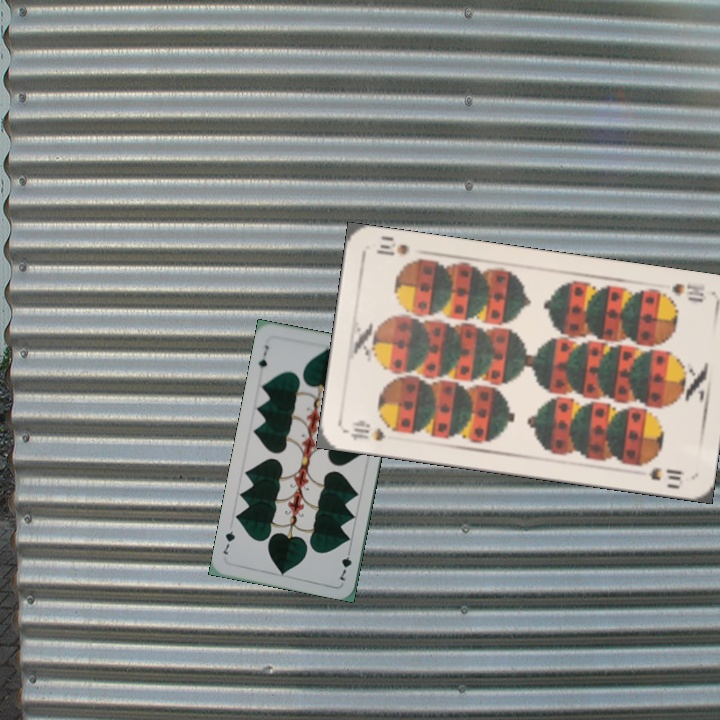G7: (336, 544, 354, 584), (254, 341, 271, 371)
S10: (343, 417, 389, 444), (668, 279, 709, 305)
